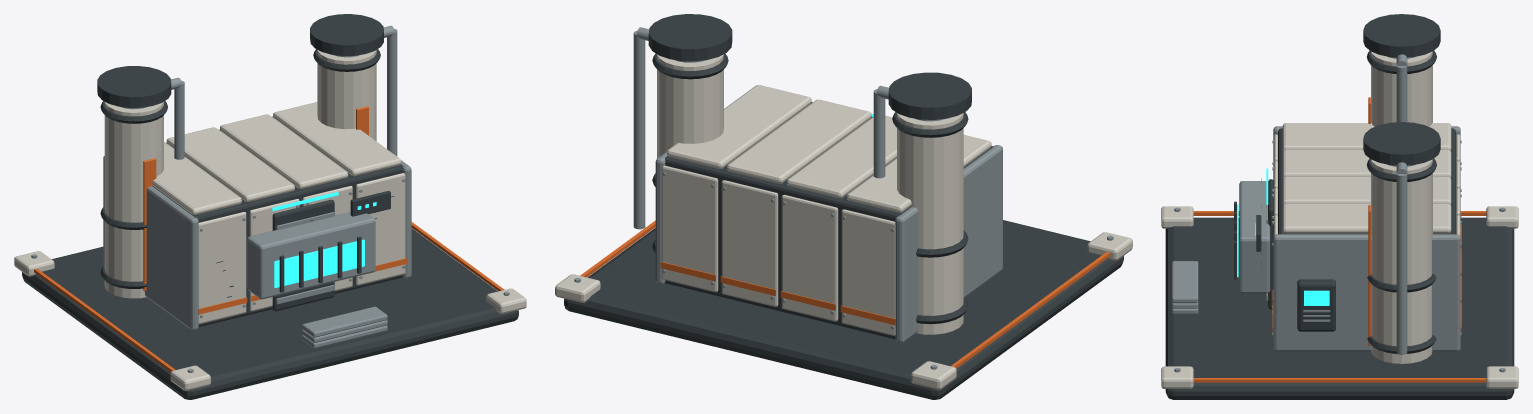
The model's file is SM_AlienMaterialProcessor_Body.fbx.
The picture shows the model from 3 angles, left to right: view 1: azimuth 30°, elevation 25°; view 2: azimuth 150°, elevation 25°; view 3: azimuth 270°, elevation 25°; orthographic projection. The views are drawn at different scales.
Parts seen in each view (by area): view 1: SM_AlienMaterialProcessor_Body; view 2: SM_AlienMaterialProcessor_Body; view 3: SM_AlienMaterialProcessor_Body.
Boxes of the visible parts, bbox=[...] form: SM_AlienMaterialProcessor_Body: bbox=[14, 14, 526, 399]; SM_AlienMaterialProcessor_Body: bbox=[555, 14, 1132, 399]; SM_AlienMaterialProcessor_Body: bbox=[1161, 14, 1518, 399].
Bounding box in the file's own units: 532 × 462 × 333.
